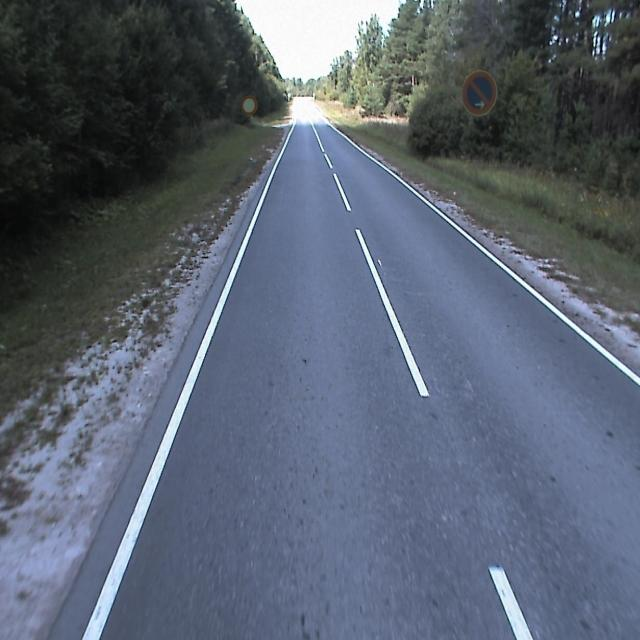road: (49, 99, 639, 639)
